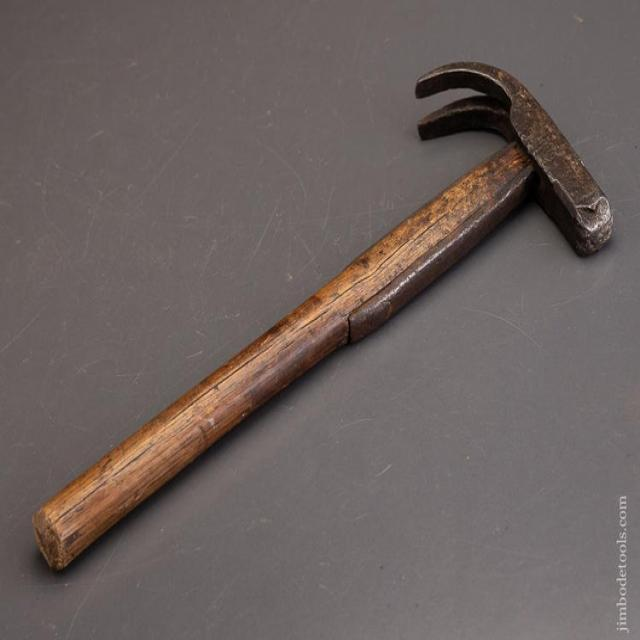hammer: (28, 56, 614, 578)
